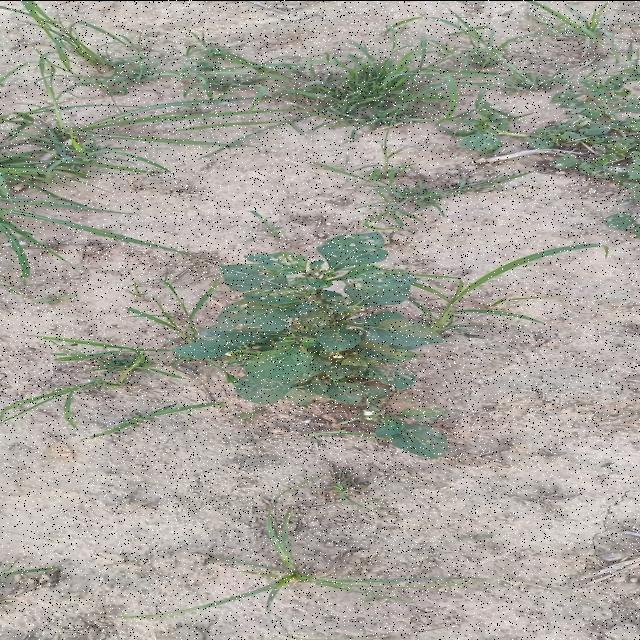plant: (174, 231, 452, 458)
